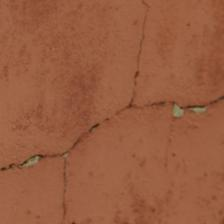Crack: (5, 105, 129, 172), (124, 3, 157, 109), (130, 93, 223, 120), (53, 156, 78, 221)
